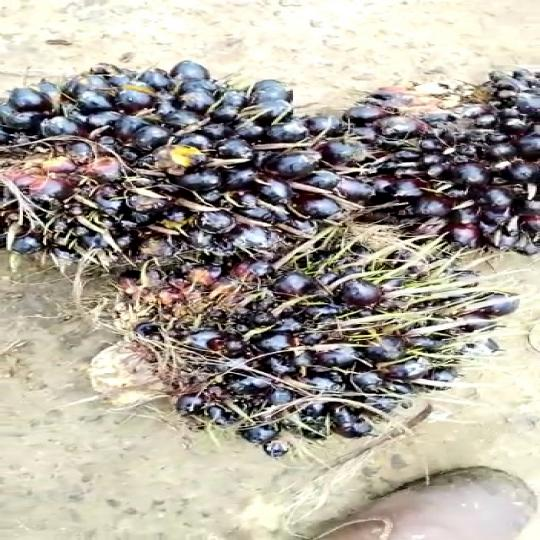mentah: (94, 231, 528, 465), (1, 51, 371, 277), (339, 57, 540, 245)
